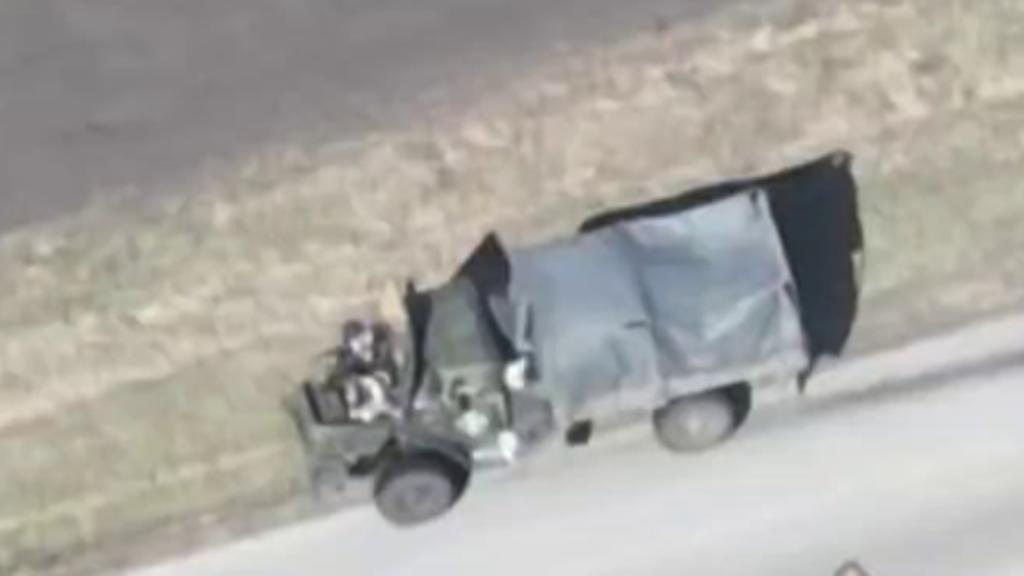TRUCK: (288, 177, 814, 523)
